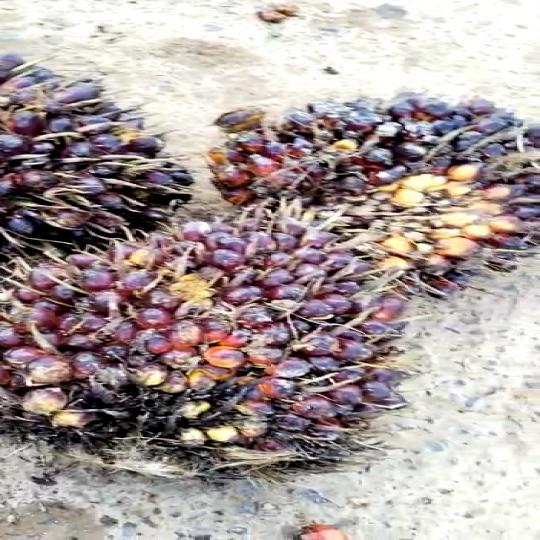kurang masak: (0, 208, 418, 488), (216, 97, 540, 294), (0, 60, 199, 238)
